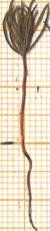flower: (0, 0, 50, 56)
root: (20, 142, 40, 231)
stem: (17, 57, 31, 143)
